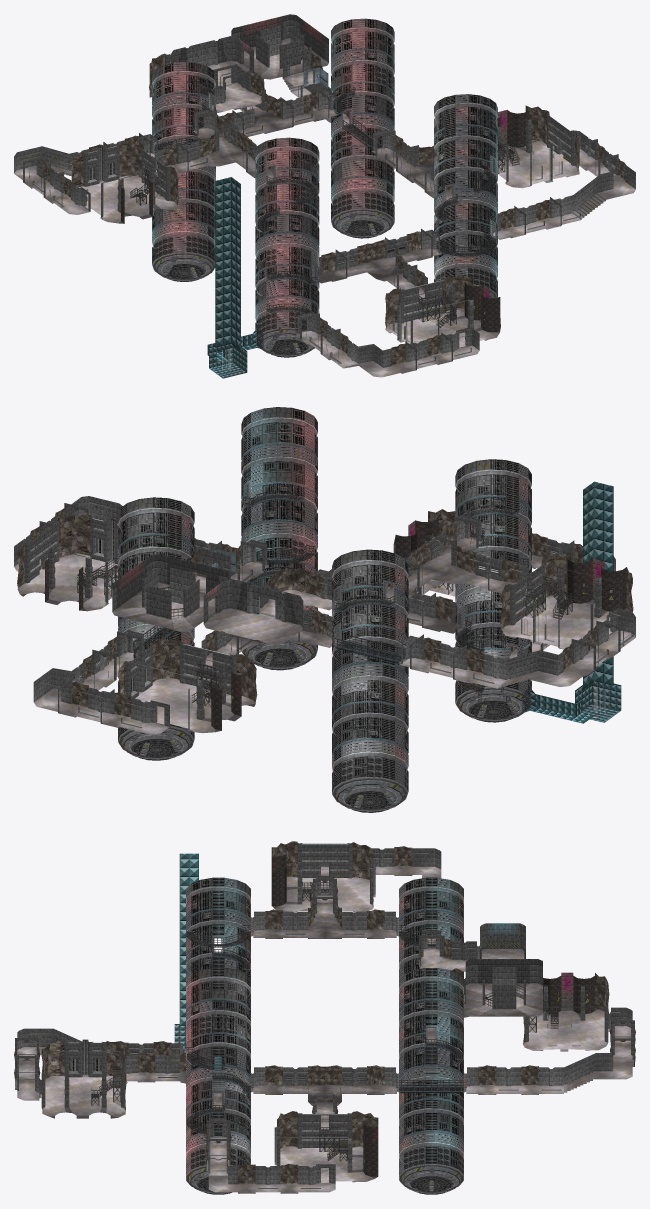
File: Silo.glb
3 views of the same model, one above another, from view 1: azimuth 30°, elevation 25°; view 2: azimuth 150°, elevation 25°; view 3: azimuth 270°, elevation 25° (orthographic). The views are drawn at different scales.
Visible parts, largest first — view 1: Silo_61, Silo_2, Silo_60, Silo_62, Silo_47, Silo_1, Silo_12, Silo_3, Silo_10, Silo_Alpha_29, Silo_15, Silo_Alpha_27 (+13 smaller); view 2: Silo_61, Silo_60, Silo_2, Silo_62, Silo_1, Silo_47, Silo_79, Silo_7, Silo_Alpha_29, Silo_0, Silo_12, Silo_10 (+13 smaller); view 3: Silo_61, Silo_60, Silo_2, Silo_62, Silo_1, Silo_12, Silo_79, Silo_Alpha_29, Silo_7, Silo_Alpha_27, Silo_0, Silo_15 (+13 smaller).
Part boxes in pixels (<box>): Silo_61: <box>14,14,635,369</box>; Silo_2: <box>152,18,605,356</box>; Silo_60: <box>14,38,635,377</box>; Silo_62: <box>29,50,625,364</box>; Silo_47: <box>207,177,262,378</box>; Silo_1: <box>166,23,496,357</box>; Silo_12: <box>70,18,614,287</box>; Silo_3: <box>155,65,497,334</box>; Silo_10: <box>154,31,489,299</box>; Silo_Alpha_29: <box>130,58,519,328</box>; Silo_15: <box>152,48,497,313</box>; Silo_Alpha_27: <box>132,92,518,349</box>; Silo_61: <box>14,496,635,729</box>; Silo_60: <box>14,518,635,734</box>; Silo_2: <box>118,409,531,811</box>; Silo_62: <box>16,506,633,717</box>; Silo_1: <box>120,413,518,812</box>; Silo_47: <box>523,481,621,723</box>; Silo_79: <box>45,516,626,730</box>; Silo_7: <box>118,407,491,717</box>; Silo_Alpha_29: <box>77,490,572,700</box>; Silo_0: <box>118,434,491,778</box>; Silo_12: <box>72,416,566,728</box>; Silo_10: <box>118,433,531,753</box>; Silo_61: <box>15,843,634,1188</box>; Silo_60: <box>17,865,634,1193</box>; Silo_2: <box>183,878,479,1193</box>; Silo_62: <box>14,841,635,1183</box>; Silo_1: <box>197,877,452,1194</box>; Silo_12: <box>69,859,458,1126</box>; Silo_79: <box>271,852,594,1176</box>; Silo_Alpha_29: <box>91,882,558,1159</box>; Silo_7: <box>200,880,463,1140</box>; Silo_Alpha_27: <box>91,888,558,1160</box>; Silo_0: <box>200,900,463,1169</box>; Silo_15: <box>186,908,463,1151</box>.
Bounding box in the file's own units: 467 × 169 × 467.
Materials: 114 (113 with a texture image).
